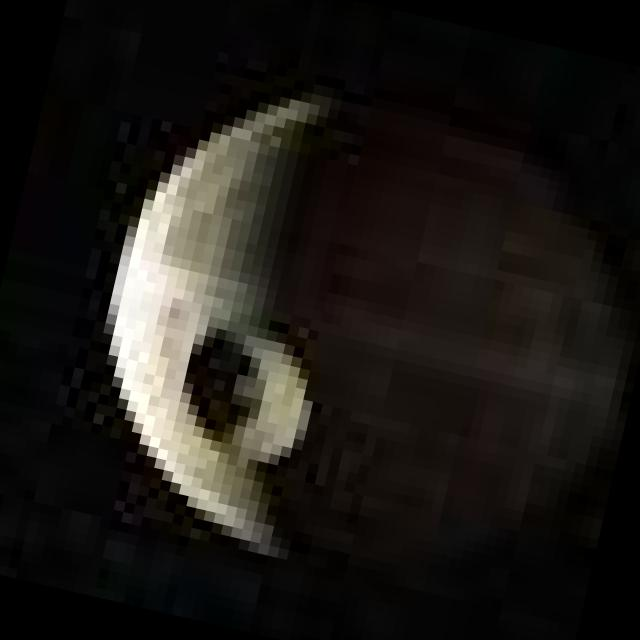Death Star: (47, 36, 640, 640)
